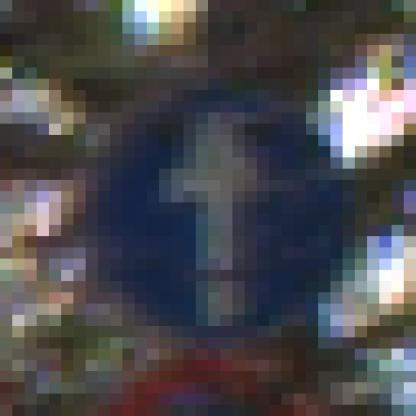AheadOnly: (74, 57, 356, 361)
